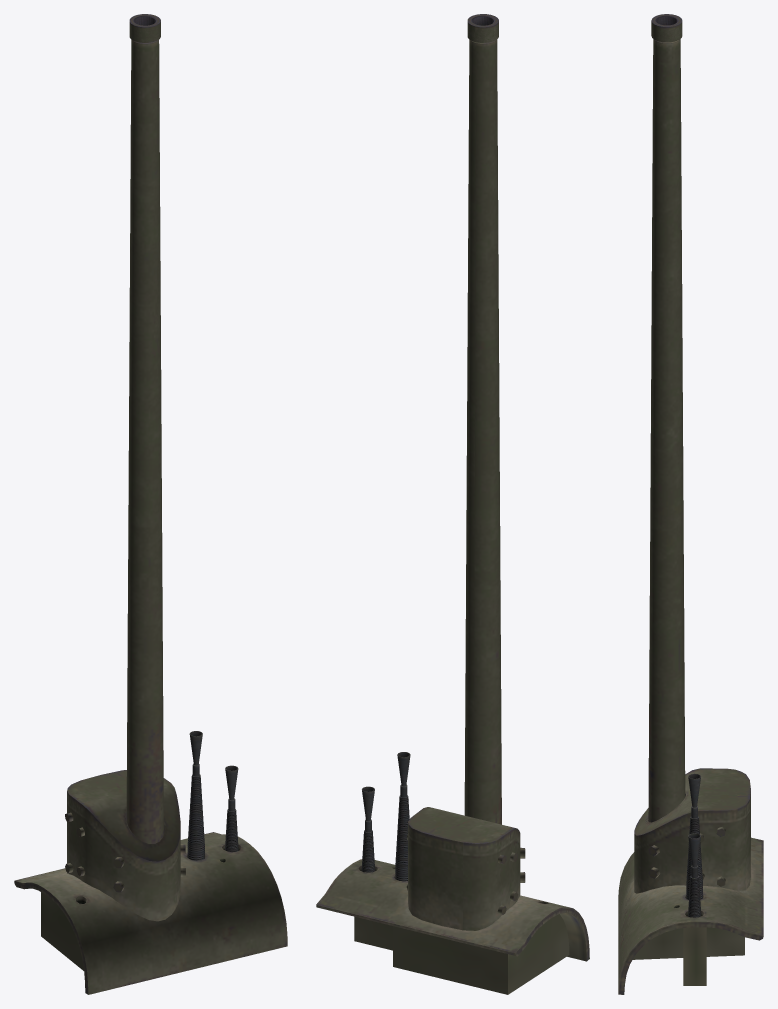
Rendered from Gun_03.glb.
3 views of the same model, side by side, from view 1: azimuth 30°, elevation 25°; view 2: azimuth 150°, elevation 25°; view 3: azimuth 270°, elevation 25° (orthographic). The views are drawn at different scales.
Parts seen in each view (by area): view 1: set_0_group_0; view 2: set_0_group_0; view 3: set_0_group_0.
Part boxes in pixels (left/top/right/bottom): set_0_group_0: left=14, top=14, right=287, bottom=994; set_0_group_0: left=316, top=14, right=589, bottom=994; set_0_group_0: left=618, top=14, right=763, bottom=994.
Size of the model in its own units: 0.8135 by 3.65 by 0.5248.
1 material, 1 textured.
